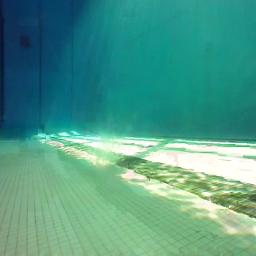Full: (19, 40, 31, 50)
